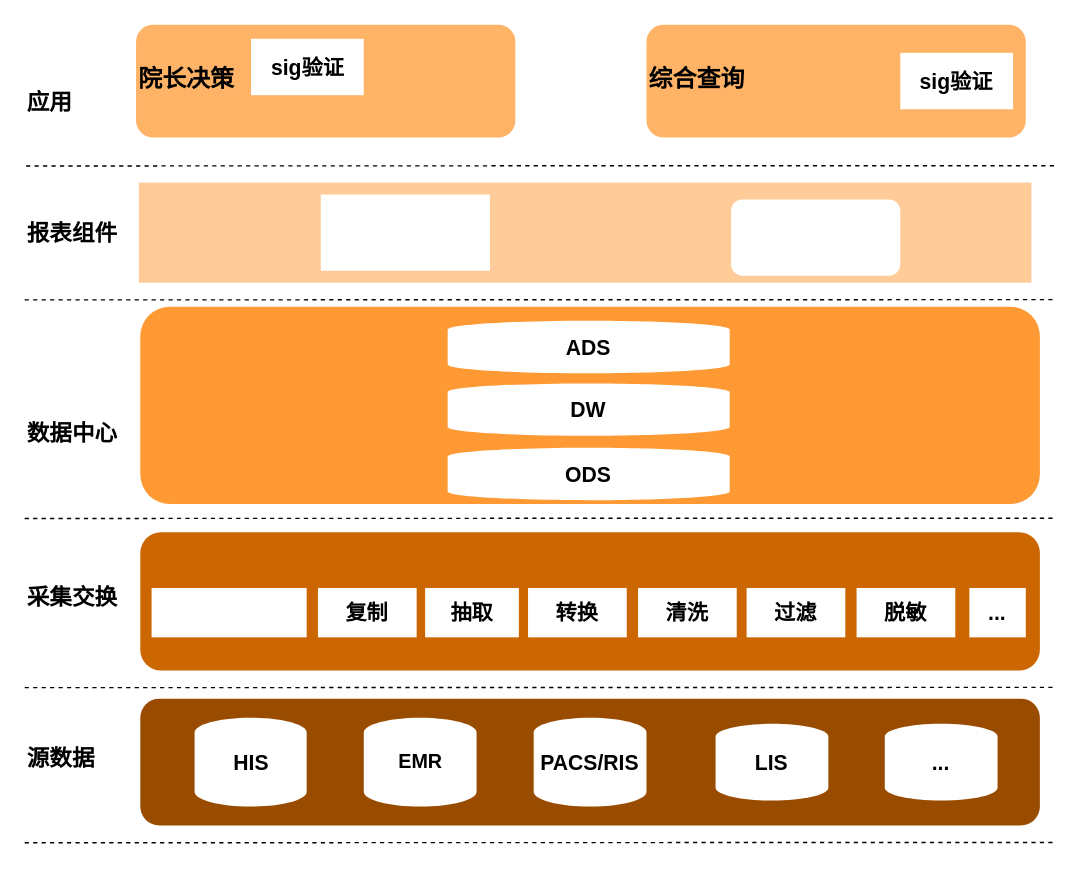
This 1080x869 diagram has some shape labels left out. The shapes that lost their labels are listed below. From the top down, each one's centre as x and y in pixels, then its label:
At [404,232]: "固定式报表展现".
At [815,237]: "FINEBI".
At [228,612]: "变化数据捕获".
